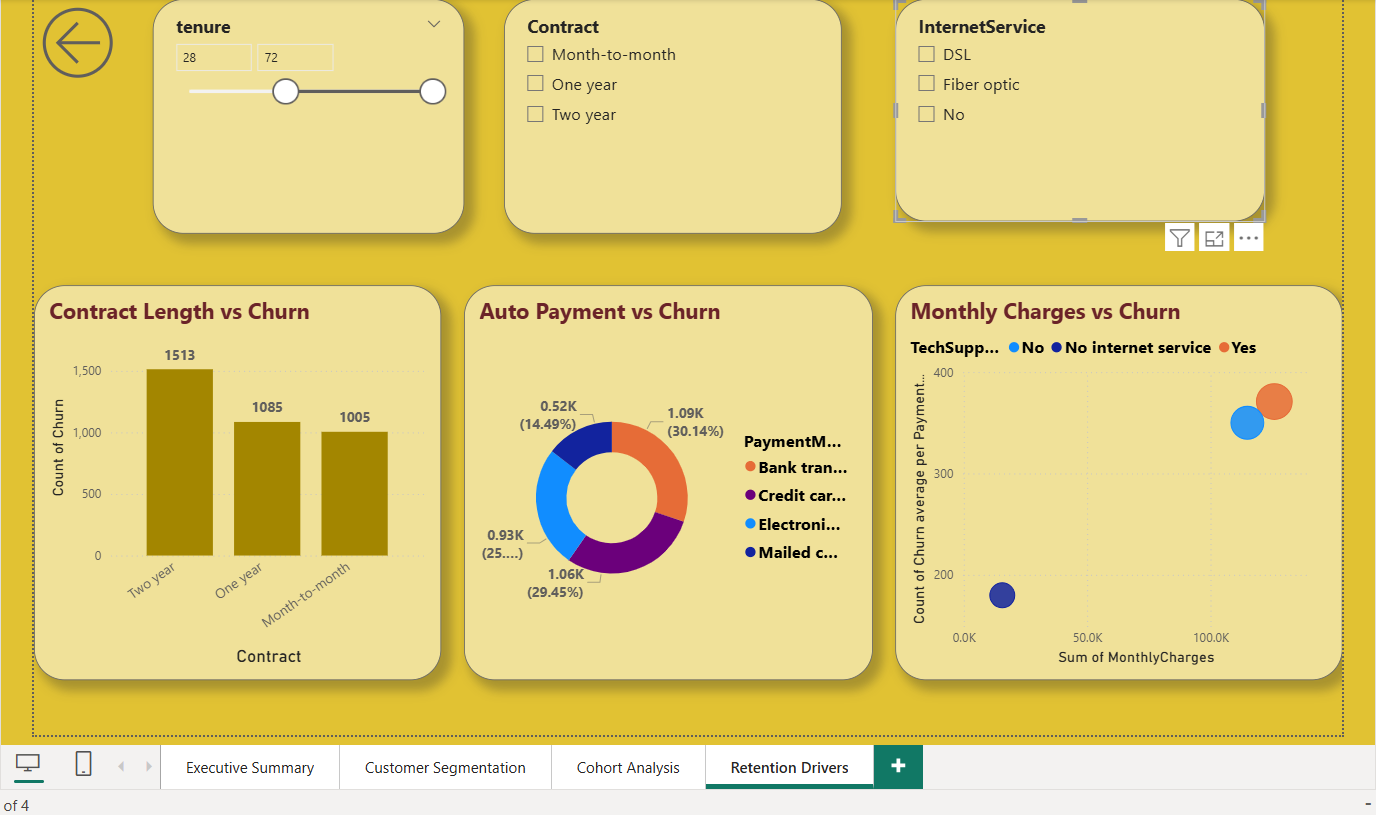

This screenshot's page, from the dashboard's own definition file:
{"tool":"powerbi","page":{"name":"Retention Drivers","canvas":[1280,720],"ordinal":3},"visuals":[{"type":"actionButton","box":[0,0,134.5,85.6],"z":0},{"type":"slicer","fields":{"Values":["telco customer churn dataset (2).tenure"]},"box":[116.2,0,304.5,229.9],"z":1},{"type":"slicer","fields":{"Values":["telco customer churn dataset (2).InternetService"]},"box":[842.5,0,362,217.7],"z":2},{"type":"slicer","fields":{"Values":["telco customer churn dataset (2).Contract"]},"box":[459.8,0,330.2,229.9],"z":3},{"type":"clusteredColumnChart","title":"Contract Length vs Churn","fields":{"Category":["telco customer churn dataset (2).Contract"],"Y":["CountNonNull(telco customer churn dataset (2).Churn)"]},"box":[0,280,398.6,386.4],"z":4},{"type":"donutChart","title":"Auto Payment vs Churn","fields":{"Y":["CountNonNull(telco customer churn dataset (2).Churn)"],"Category":["telco customer churn dataset (2).PaymentMethod"]},"box":[420.7,280,399.9,386.4],"z":5},{"type":"scatterChart","title":"Monthly Charges vs Churn","fields":{"Size":["Sum(telco customer churn dataset (2).tenure)"],"Y":["telco customer churn dataset (2).Count of Churn average per PaymentMethod"],"X":["Sum(telco customer churn dataset (2).MonthlyCharges)"],"Series":["telco customer churn dataset (2).TechSupport"]},"box":[842.5,280,437.8,386.4],"z":6}]}

Visuals, with their boxes in screenshot pixels (x1, y1, x2, y2):
actionButton: pyautogui.locateOnScreen(29, 0, 166, 84)
slicer - telco customer churn dataset (2).tenure: pyautogui.locateOnScreen(147, 0, 459, 232)
slicer - telco customer churn dataset (2).InternetService: pyautogui.locateOnScreen(890, 0, 1260, 219)
slicer - telco customer churn dataset (2).Contract: pyautogui.locateOnScreen(499, 0, 836, 232)
"Contract Length vs Churn" clusteredColumnChart: pyautogui.locateOnScreen(29, 283, 436, 678)
"Auto Payment vs Churn" donutChart: pyautogui.locateOnScreen(459, 283, 868, 678)
"Monthly Charges vs Churn" scatterChart: pyautogui.locateOnScreen(890, 283, 1338, 678)
